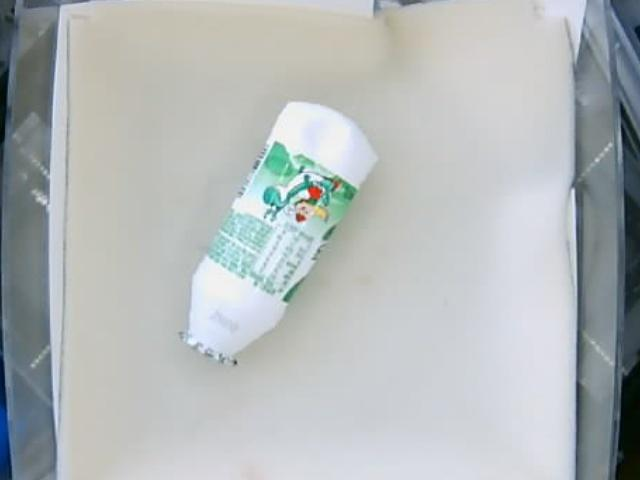Bottle: (179, 95, 379, 362)
